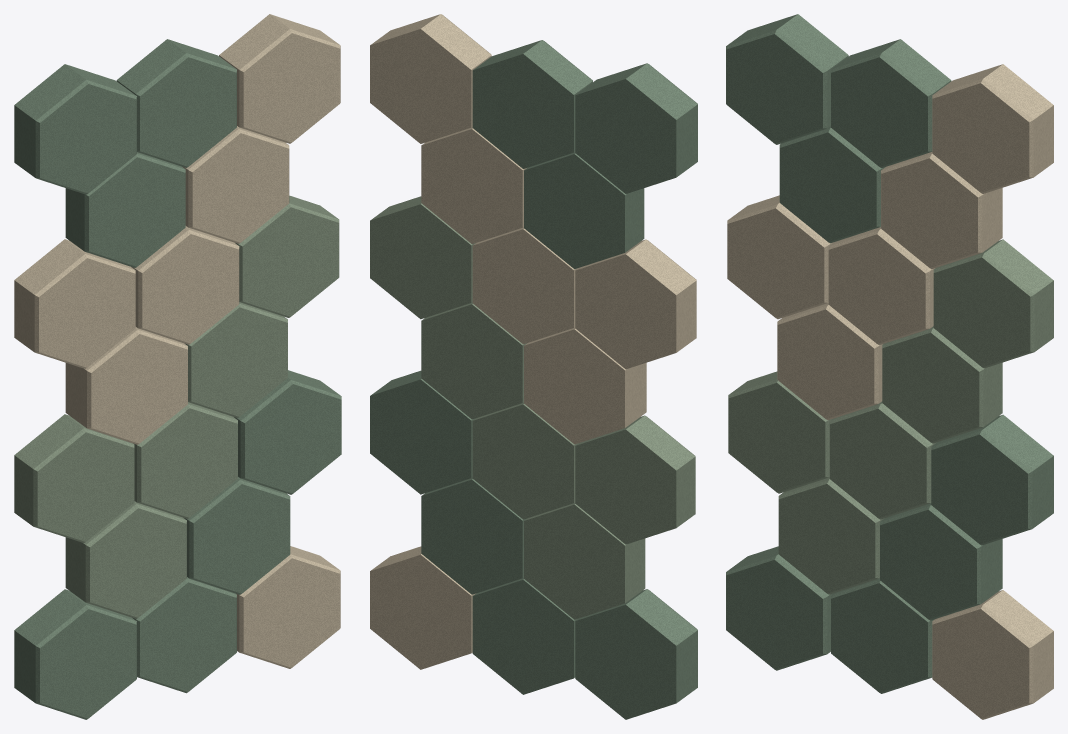
3 renders of one model, left to right at view 1: azimuth 30°, elevation 25°; view 2: azimuth 150°, elevation 25°; view 3: azimuth 330°, elevation 25°, orthographic.
Visible parts, largest first — view 1: felt-7-1, felt-1-1, felt-5-1, felt-3-1, felt-7-3, felt-7-2, felt-4-1, felt-2-1, felt-6-1, felt-3-3, felt-5-2, felt-1-3 (+6 smaller); view 2: felt-7-1, felt-1-1, felt-5-1, felt-3-1, felt-7-3, felt-7-2, felt-4-1, felt-2-1, felt-6-1, felt-3-3, felt-1-3, felt-5-3 (+6 smaller); view 3: felt-7-3, felt-3-3, felt-1-3, felt-5-3, felt-7-1, felt-7-2, felt-2-2, felt-6-2, felt-4-2, felt-1-1, felt-5-1, felt-5-2 (+6 smaller).
Part boxes in pixels (left/top/right/bottom): felt-7-1: left=14, top=64, right=136, bottom=194; felt-1-1: left=14, top=589, right=136, bottom=719; felt-5-1: left=14, top=239, right=135, bottom=368; felt-3-1: left=14, top=414, right=134, bottom=542; felt-7-3: left=219, top=14, right=340, bottom=143; felt-7-2: left=116, top=39, right=236, bottom=167; felt-4-1: left=65, top=327, right=187, bottom=444; felt-2-1: left=65, top=501, right=186, bottom=618; felt-6-1: left=65, top=152, right=185, bottom=267; felt-3-3: left=234, top=370, right=341, bottom=494; felt-5-2: left=131, top=226, right=239, bottom=344; felt-1-3: left=236, top=546, right=340, bottom=668; felt-7-1: left=575, top=63, right=697, bottom=193; felt-1-1: left=575, top=589, right=697, bottom=719; felt-5-1: left=575, top=239, right=696, bottom=369; felt-3-1: left=575, top=415, right=695, bottom=544; felt-7-3: left=370, top=14, right=491, bottom=143; felt-7-2: left=472, top=40, right=592, bottom=168; felt-4-1: left=524, top=327, right=646, bottom=444; felt-2-1: left=524, top=502, right=645, bottom=619; felt-6-1: left=524, top=152, right=644, bottom=269; felt-3-3: left=370, top=370, right=475, bottom=494; felt-1-3: left=370, top=546, right=475, bottom=669; felt-5-3: left=370, top=196, right=475, bottom=319; felt-7-3: left=932, top=64, right=1053, bottom=193; felt-3-3: left=931, top=414, right=1053, bottom=545; felt-1-3: left=932, top=590, right=1053, bottom=719; felt-5-3: left=933, top=239, right=1053, bottom=368; felt-7-1: left=726, top=14, right=848, bottom=144; felt-7-2: left=831, top=39, right=951, bottom=168; felt-2-2: left=880, top=503, right=1002, bottom=620; felt-6-2: left=881, top=152, right=1002, bottom=269; felt-4-2: left=882, top=326, right=1002, bottom=443; felt-1-1: left=726, top=546, right=832, bottom=670; felt-5-1: left=727, top=195, right=833, bottom=319; felt-5-2: left=828, top=227, right=935, bottom=345.
Size of the model in its own units: 0.6 by 1.2 by 0.08.
Materials: 3 (3 with a texture image).
